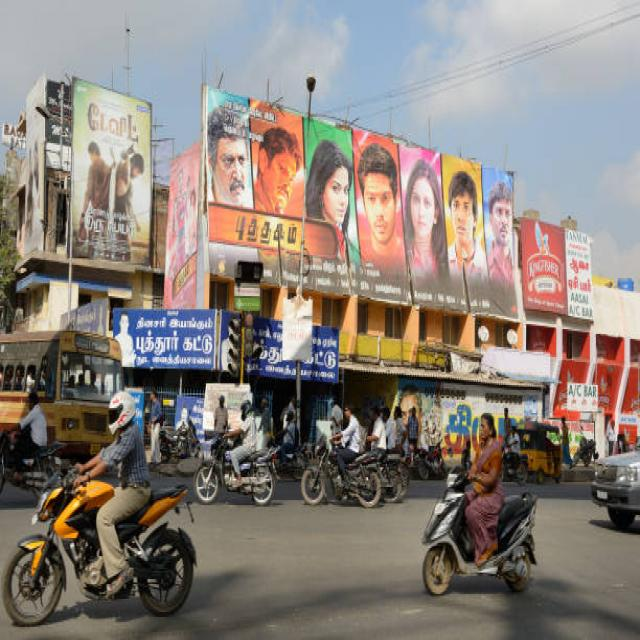Werbetafel frei: (204, 133, 520, 294), (72, 94, 150, 264)
